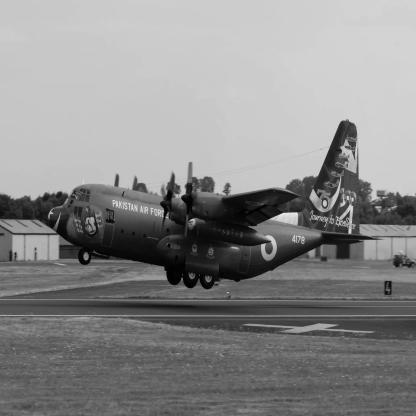C130: (49, 120, 387, 291)
